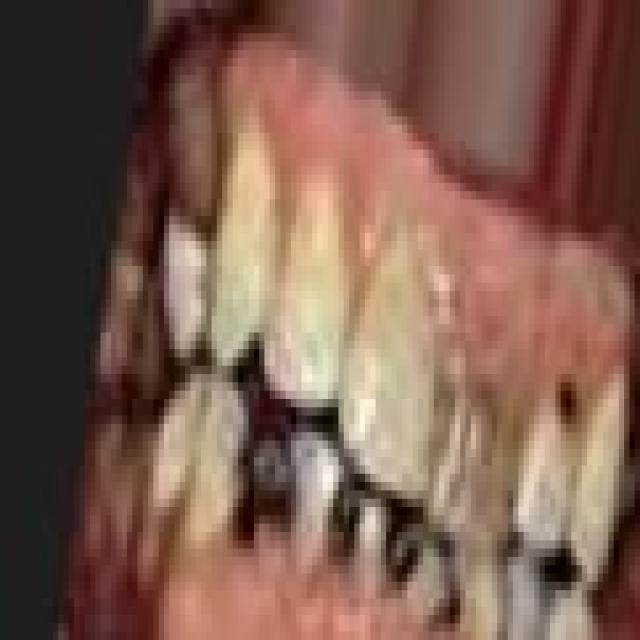caries: (253, 408, 329, 564), (371, 498, 437, 620), (534, 348, 596, 464), (323, 466, 376, 591)
